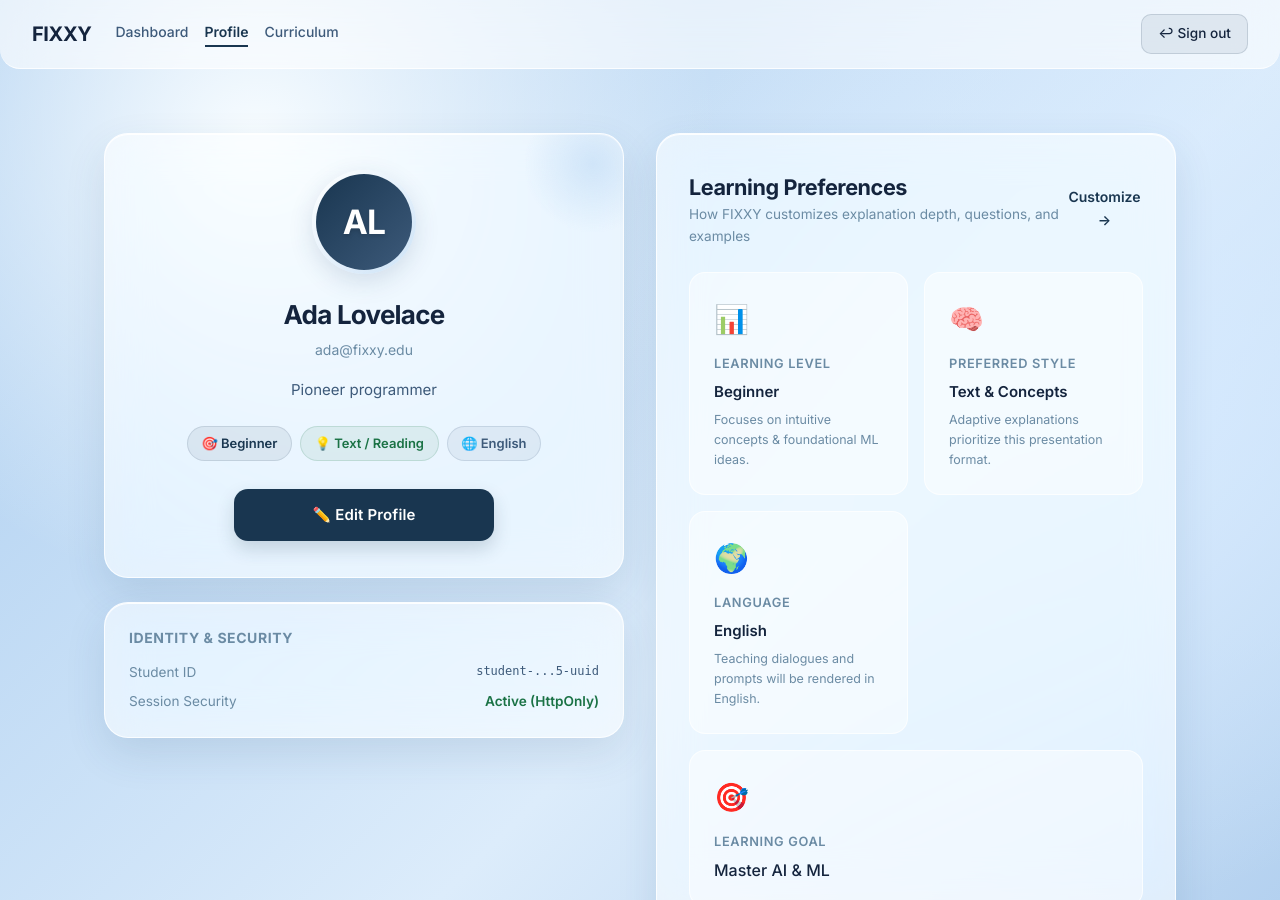
Test case: ProfilePage › switches to edit mode with pre-populated form when Edit Profile is clicked
Expected: the heading "Ada Lovelace" is shown, [284, 294, 444, 335]
What coordinates should you click on to do the following:
click the button with aria-label "edit student profile"
I would click on:
 (364, 515)
Its box is [234, 489, 494, 541].
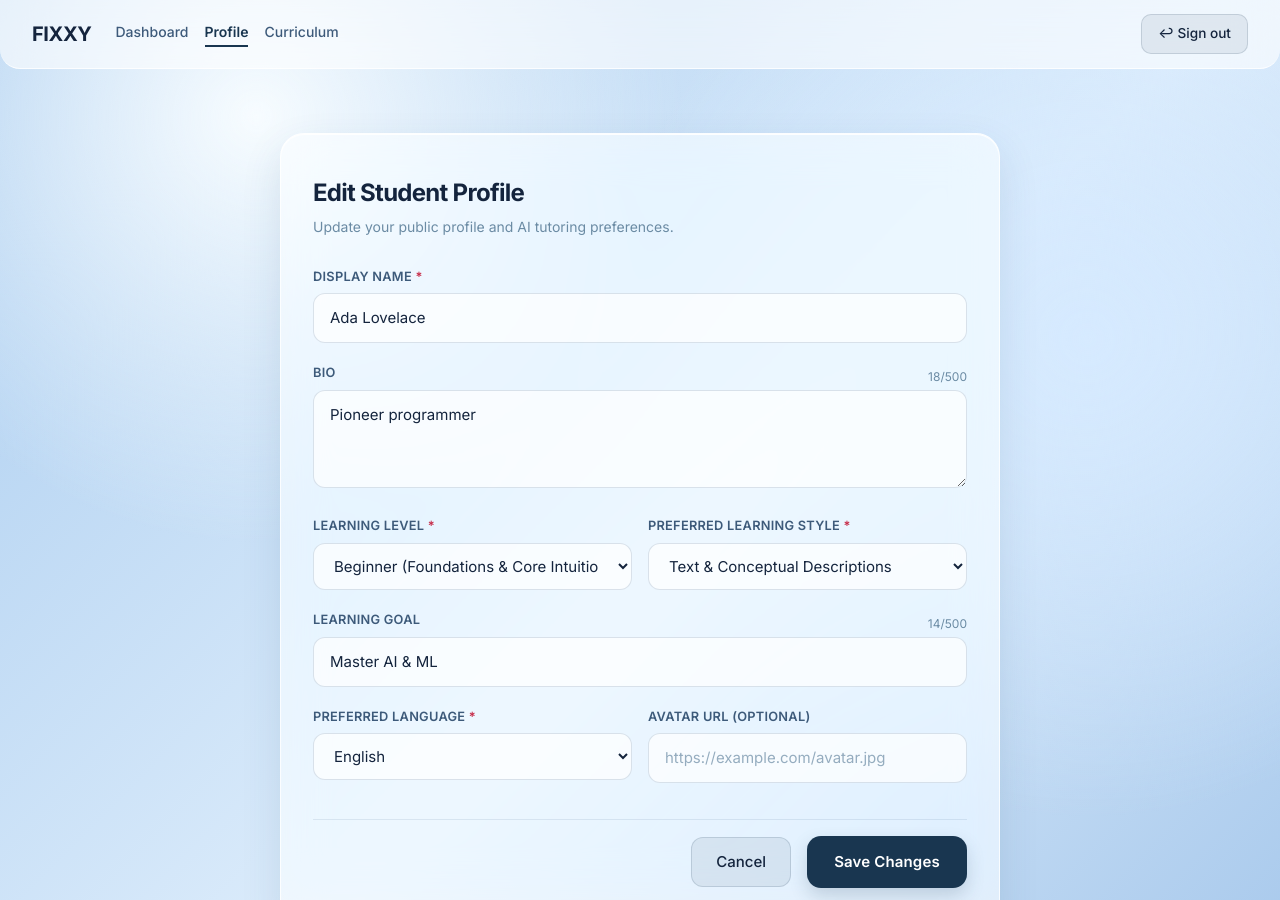
Now the field labelled "Display Name *" holds "Ada Lovelace", box [313, 293, 967, 343]
Now the text box labelled "Bio" holds "Pioneer programmer", box [313, 390, 967, 488]
Now the field labelled "Learning Goal" holds "Master AI & ML", box [313, 637, 967, 687]
